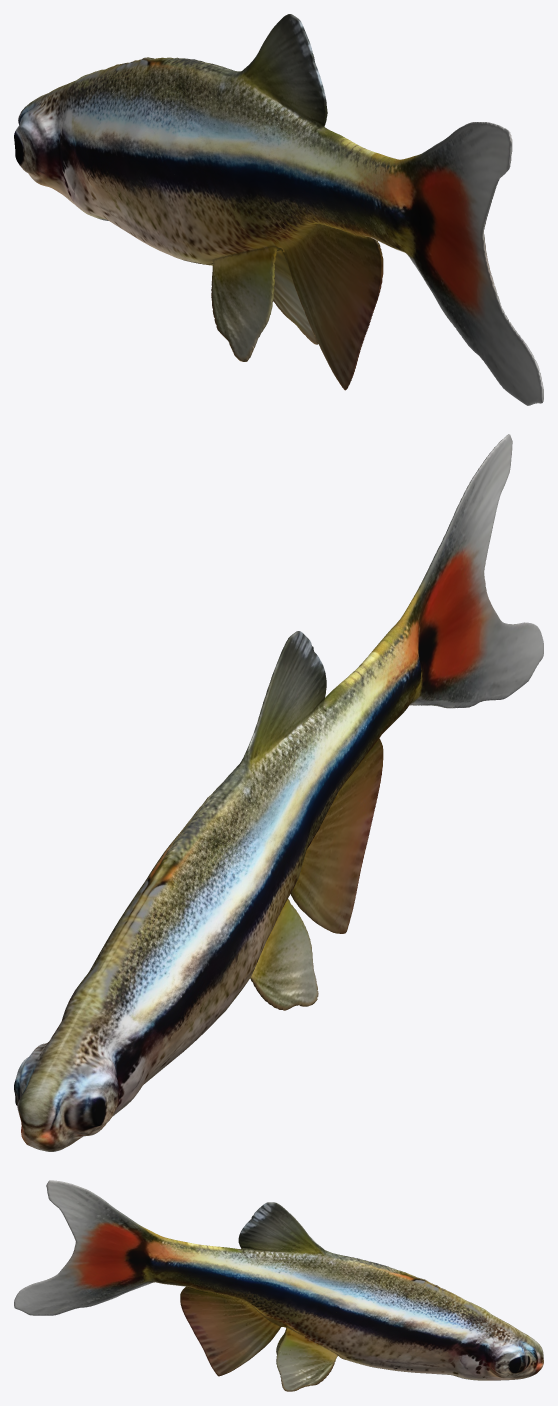
The model's file is uploaded-fish.glb.
3 views of the same model, one above another, from view 1: azimuth 30°, elevation 25°; view 2: azimuth 150°, elevation 25°; view 3: azimuth 270°, elevation 25° (orthographic). The views are drawn at different scales.
Visible parts, largest first — view 1: tripo_node_a3719c62-14e7-4308-86cf-c3b06b4da7bd; view 2: tripo_node_a3719c62-14e7-4308-86cf-c3b06b4da7bd; view 3: tripo_node_a3719c62-14e7-4308-86cf-c3b06b4da7bd.
Boxes of the visible parts, x1,y1,x2,y2 form: tripo_node_a3719c62-14e7-4308-86cf-c3b06b4da7bd: [14, 14, 543, 405]; tripo_node_a3719c62-14e7-4308-86cf-c3b06b4da7bd: [14, 434, 543, 1151]; tripo_node_a3719c62-14e7-4308-86cf-c3b06b4da7bd: [14, 1180, 543, 1391].
Size of the model in its own units: 0.1078 by 0.4211 by 1.
1 material, 1 textured.
